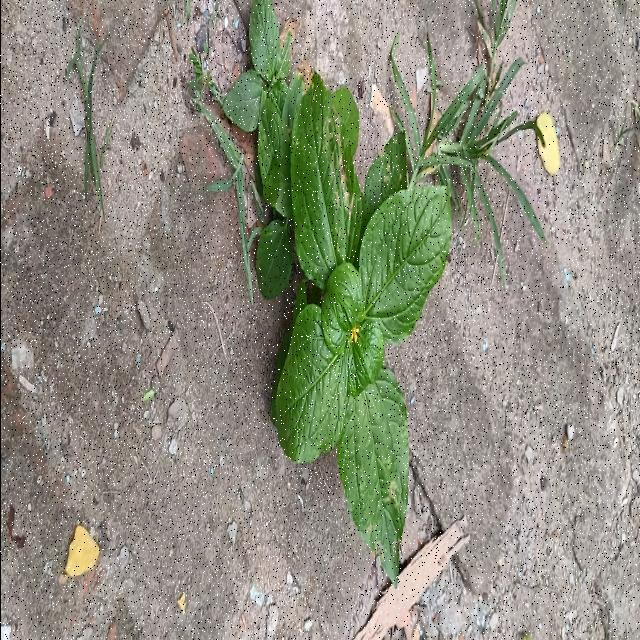plant: (222, 0, 451, 583)
